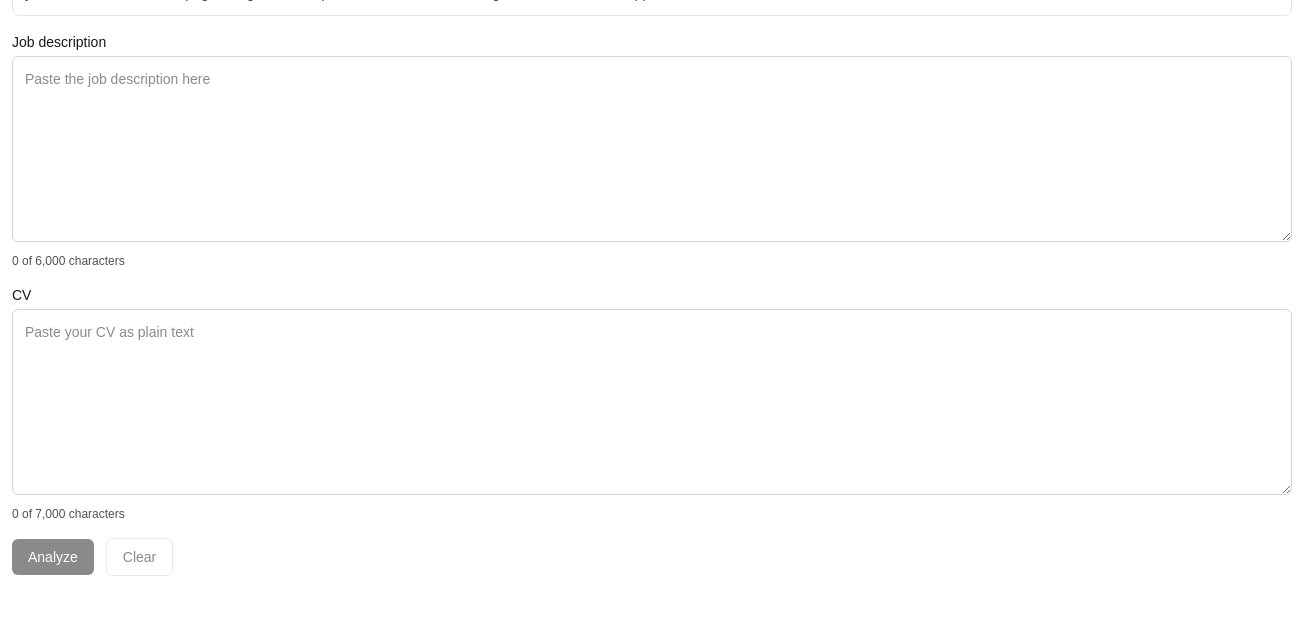
Scenario: KeywordGapAnalyzer: a successful analysis › frames the numbers as keyword overlap and shows no single score
This screenshot has width=1304, height=642.
Click the text box labelled "Job description". click: (652, 149)
box: x1=12 y1=56 x2=1292 y2=242
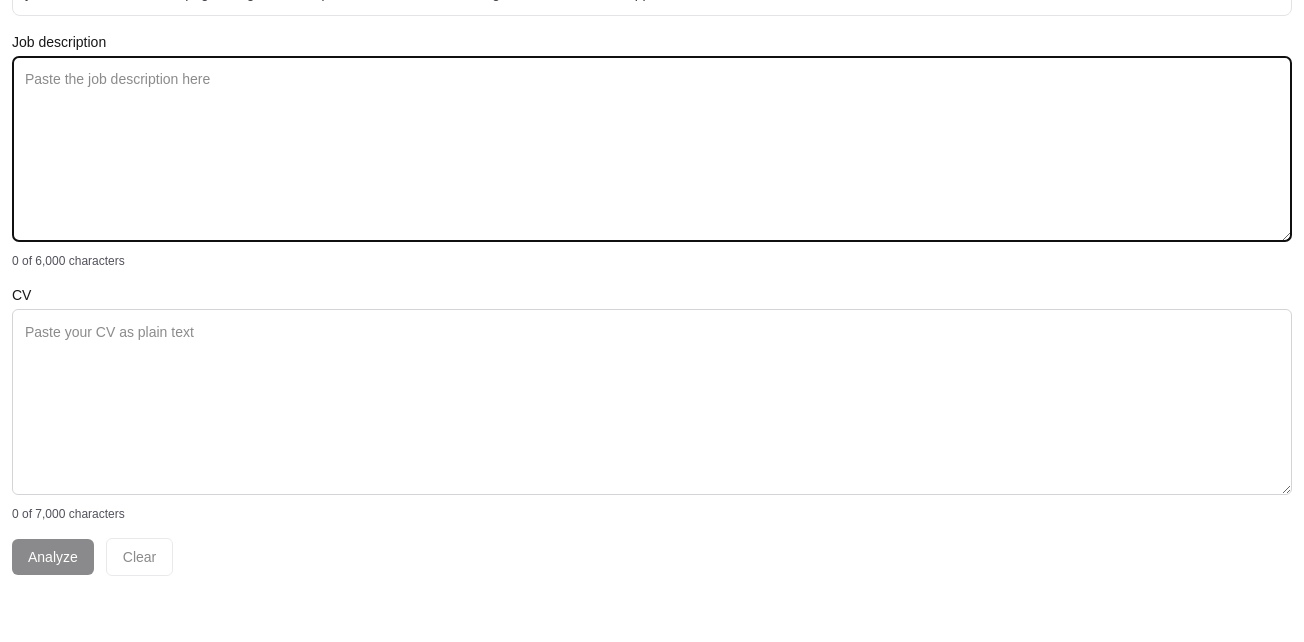
Type keys "Acme Example Ltd is hiring a Frontend Engineer. Required: React, TypeScript, REST APIs, Git and GraphQL. Preferred: Docker and Kubernetes."
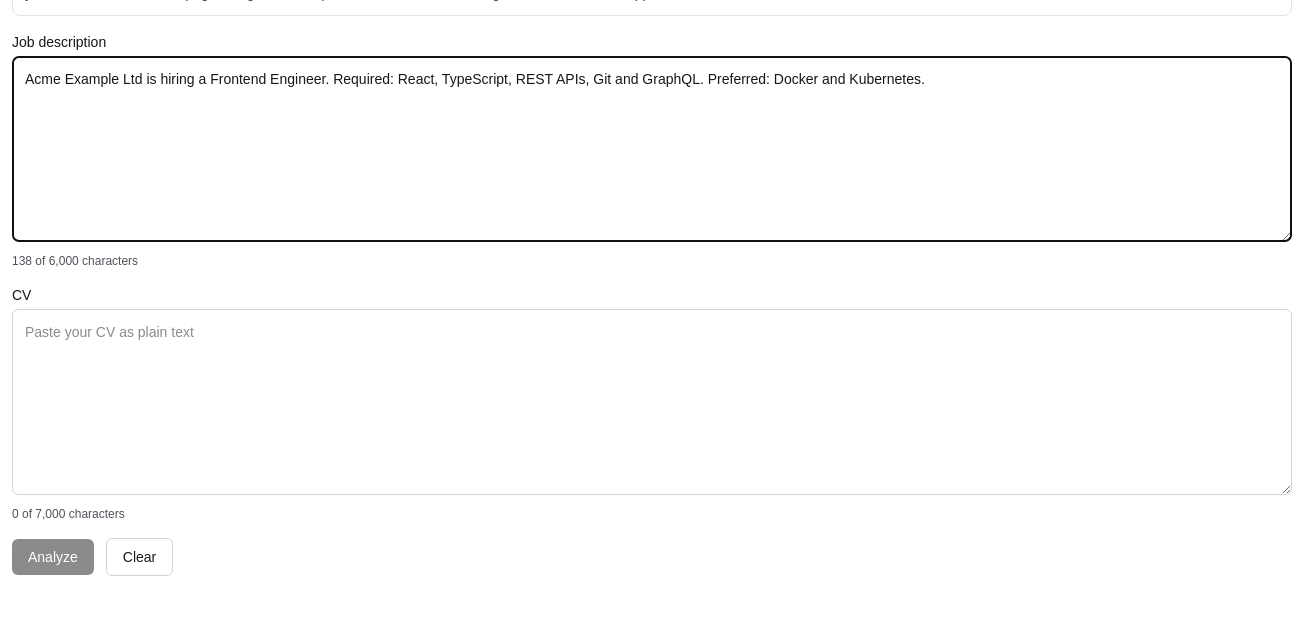
Click the text box labelled "CV". click: (652, 402)
box: x1=12 y1=309 x2=1292 y2=495
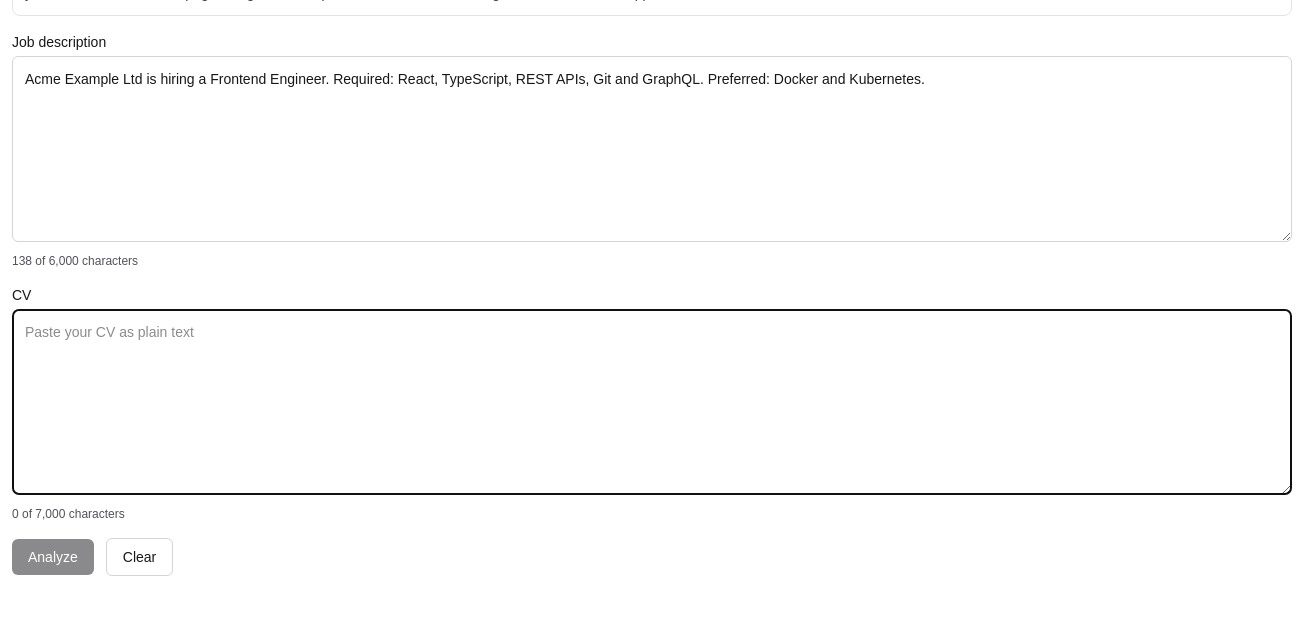
Type keys "Jane Example. Frontend developer. Built single-page apps with React and TypeScript, consumed REST APIs and used Git every day."
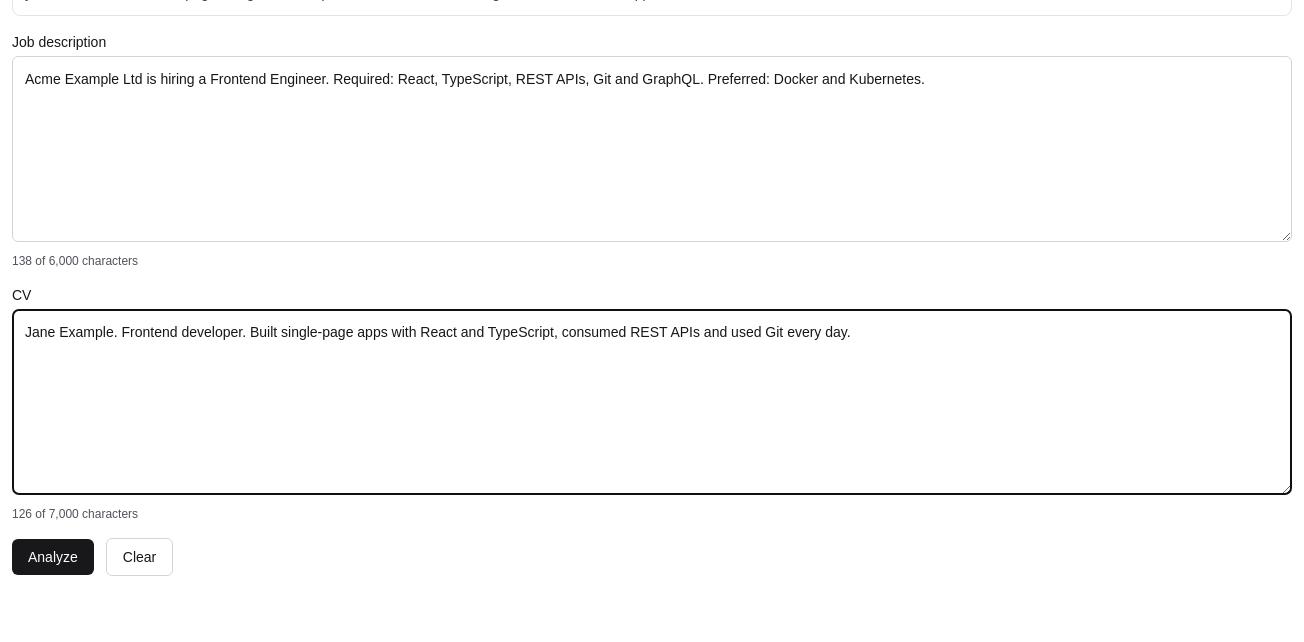
Click the button "Analyze". click: (53, 557)
box: x1=12 y1=539 x2=94 y2=575
(page scrolled)
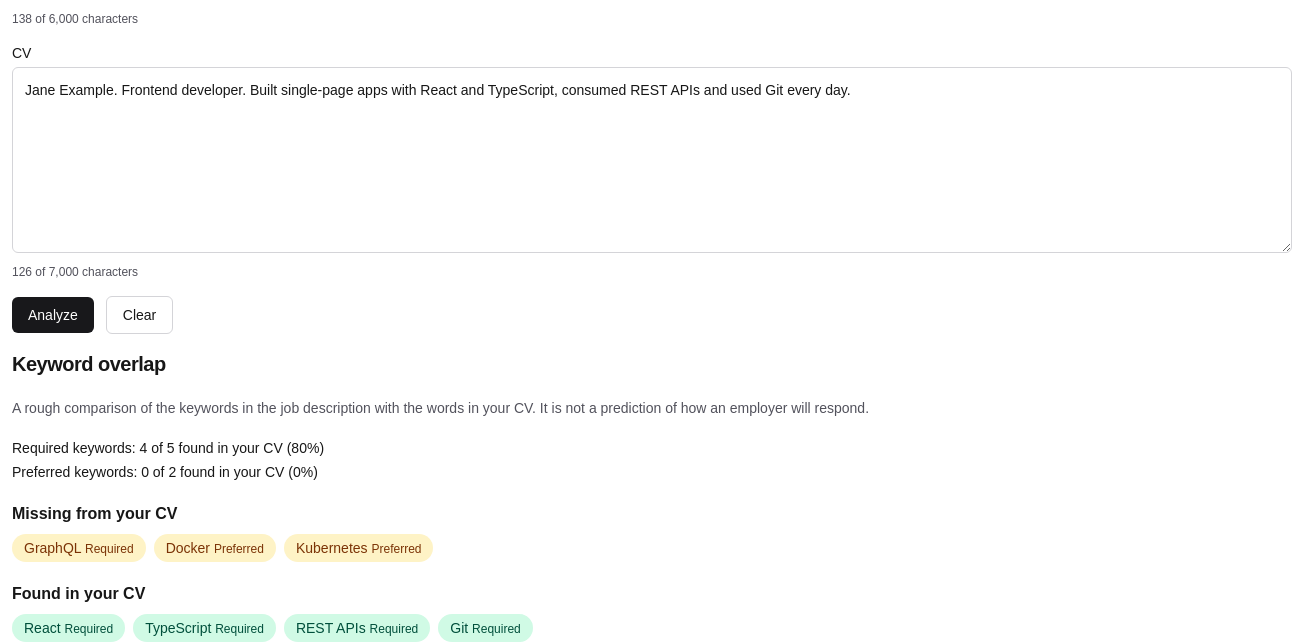
Expected: the heading "Keyword overlap" is shown, x1=12 y1=353 x2=166 y2=375
Expected: the text "not a prediction of how an employer will respond" is shown, x1=12 y1=400 x2=869 y2=416
